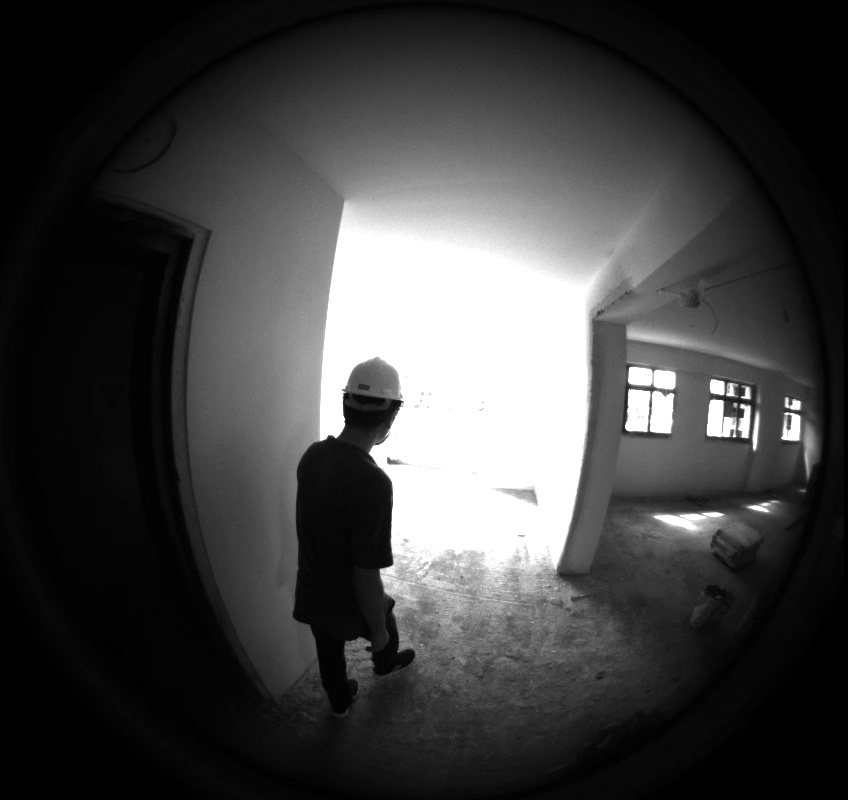Building materials: (52, 46, 762, 569)
Floor: (0, 0, 802, 795)
Person: (121, 358, 414, 717)
Tools: (43, 44, 731, 629)
Wall: (69, 253, 626, 573)
Windows: (20, 45, 801, 441), (47, 62, 754, 439), (52, 70, 674, 434)
